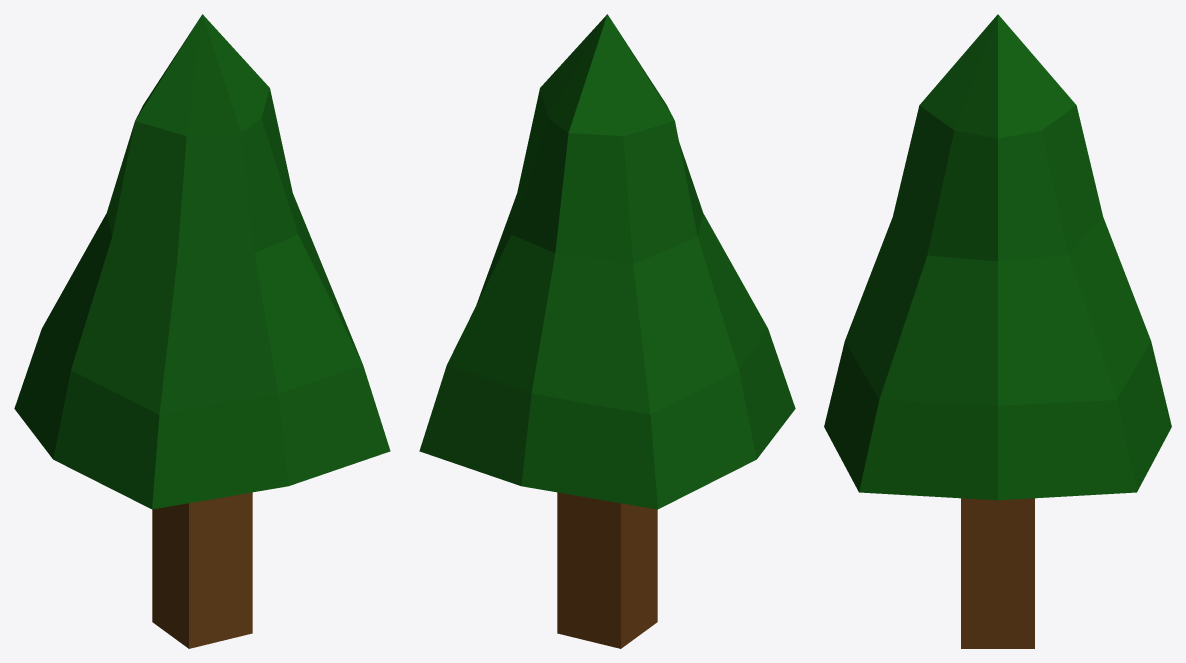
The model's file is Tree_03.FBX.
3 views of the same model, side by side, from view 1: azimuth 30°, elevation 25°; view 2: azimuth 150°, elevation 25°; view 3: azimuth 270°, elevation 25° (orthographic).
Visible parts, largest first — view 1: L_Tree_002; view 2: L_Tree_002; view 3: L_Tree_002.
Part boxes in pixels (x1,y1,x2,y2): L_Tree_002: (14,14,390,648); L_Tree_002: (419,14,795,648); L_Tree_002: (824,14,1171,648).
Size of the model in its own units: 235 by 461 by 235.
1 material, 1 textured.
